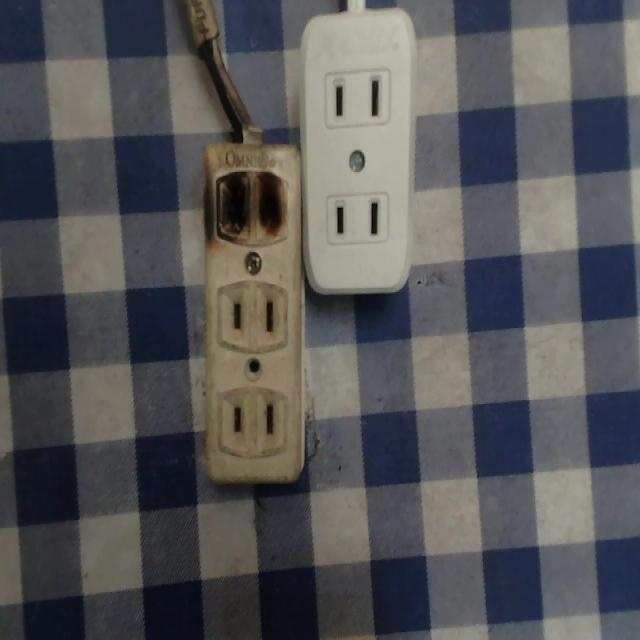-: (205, 156, 295, 251)
